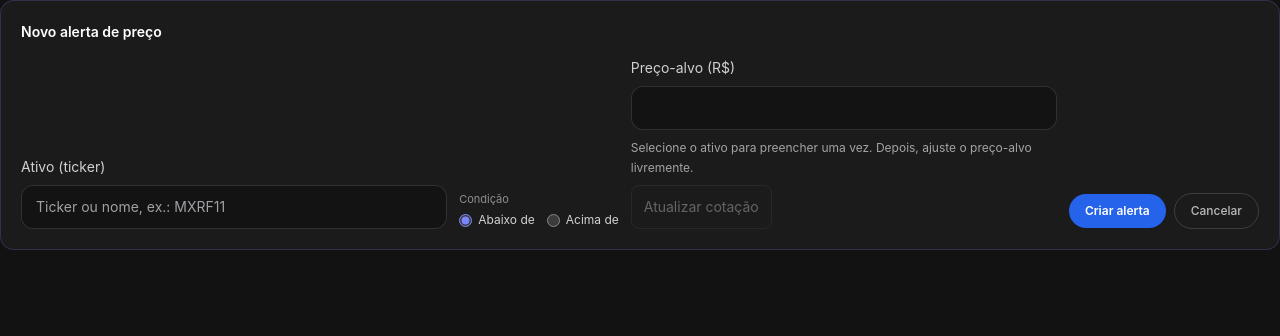
Test: ignora cotação atrasada de outro ativo e mantém moeda da seleção atual
Type "MX" into the dropdown at x=234, y=207, box [21, 185, 447, 229]
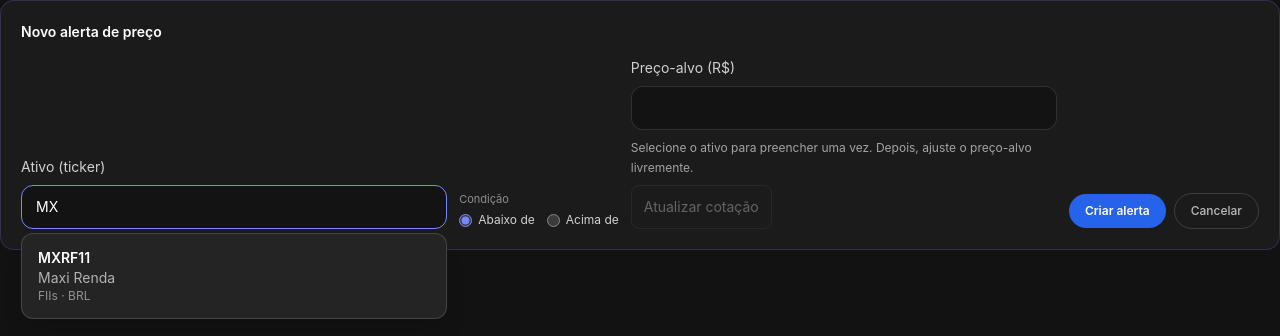
Click the option "MXRF11 Maxi Renda FIIs · BRL" at x=77, y=276, box [38, 249, 115, 303]
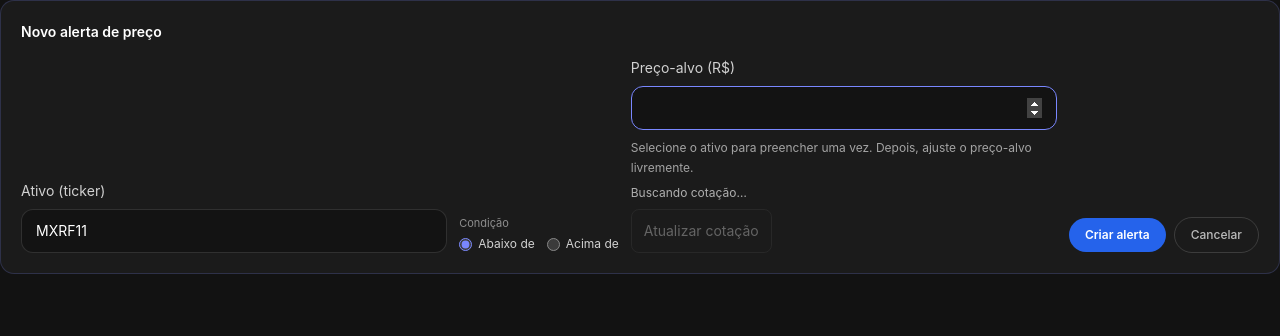
Clear the dropdown at x=234, y=231, box [21, 209, 447, 253]
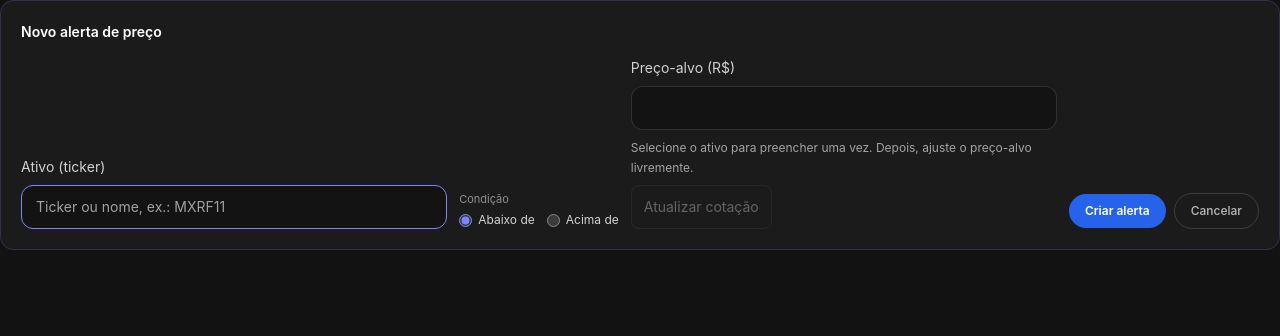
Type "AA" into the dropdown at x=234, y=207, box [21, 185, 447, 229]
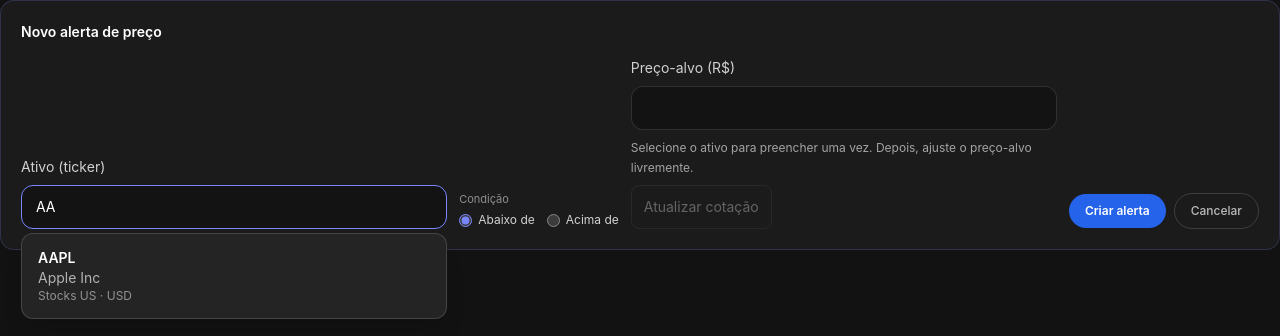
Click the option "AAPL Apple Inc Stocks US · USD" at x=85, y=276, box [38, 249, 132, 303]
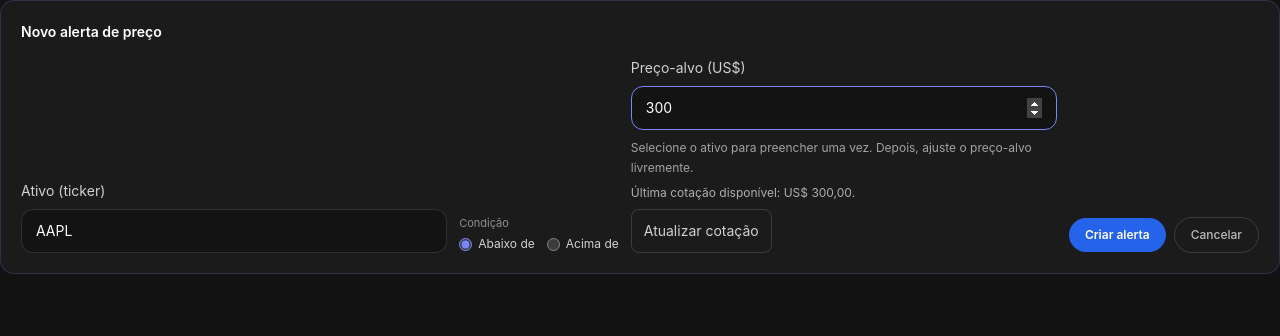
Check: the number field labelled "Preço-alvo (US$)" holds "300", box [631, 86, 1057, 130]
Check: the dropdown holds "AAPL", box [21, 209, 447, 253]
